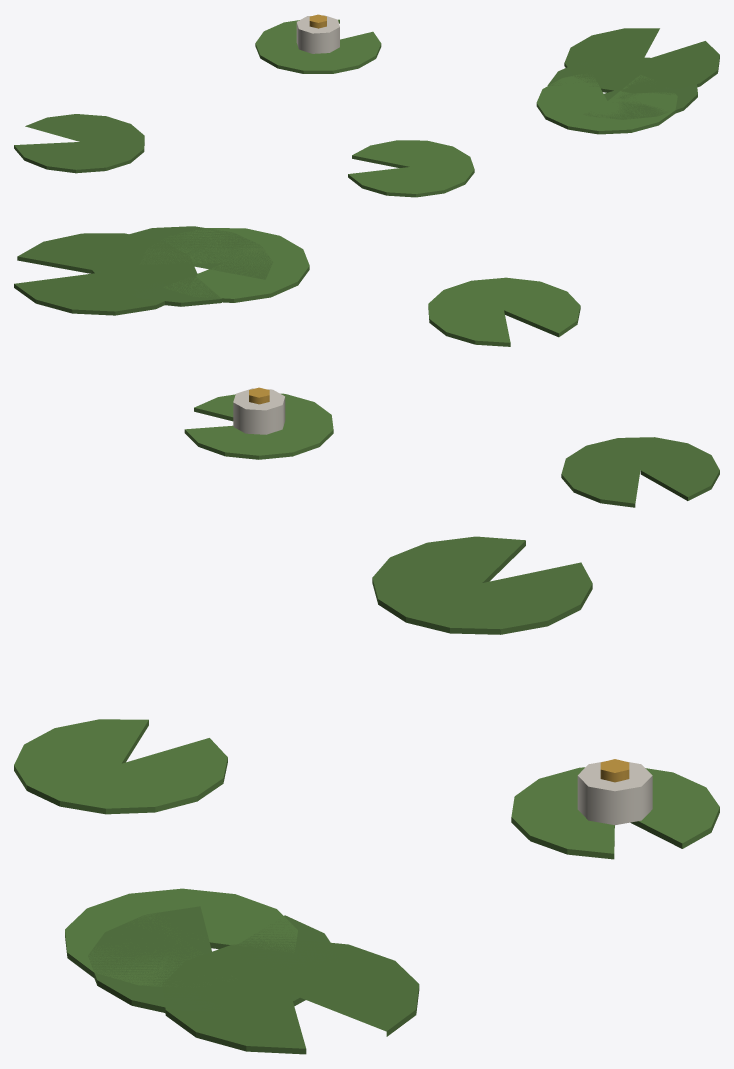
Rendered from lily_pads.glb.
The picture shows the model from 3 angles, top to bottom: view 1: azimuth 30°, elevation 25°; view 2: azimuth 150°, elevation 25°; view 3: azimuth 270°, elevation 25°; orthographic projection. The views are drawn at different scales.
Visible parts, largest first — view 1: body; view 2: body; view 3: body.
Boxes of the visible parts, x1,y1,x2,y2 form: body: (14,14,719,197); body: (14,226,719,507); body: (14,536,719,1054).
Bounding box in the file's own units: 2.91 × 0.13 × 1.7.
